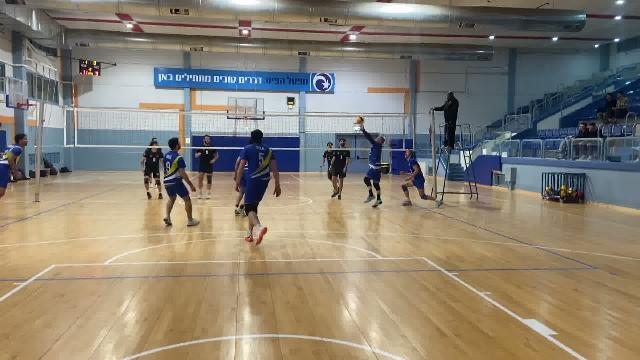ball: (349, 113, 364, 123)
